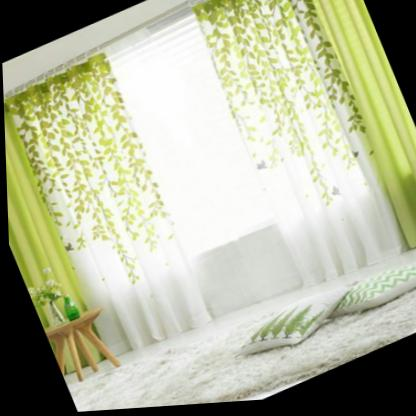Curtains: (3, 0, 416, 356)
